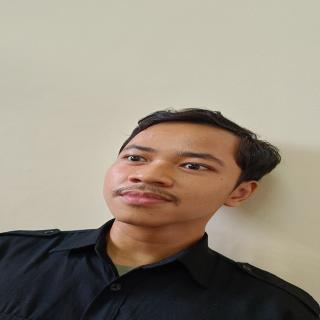Takut: (95, 117, 252, 229)
